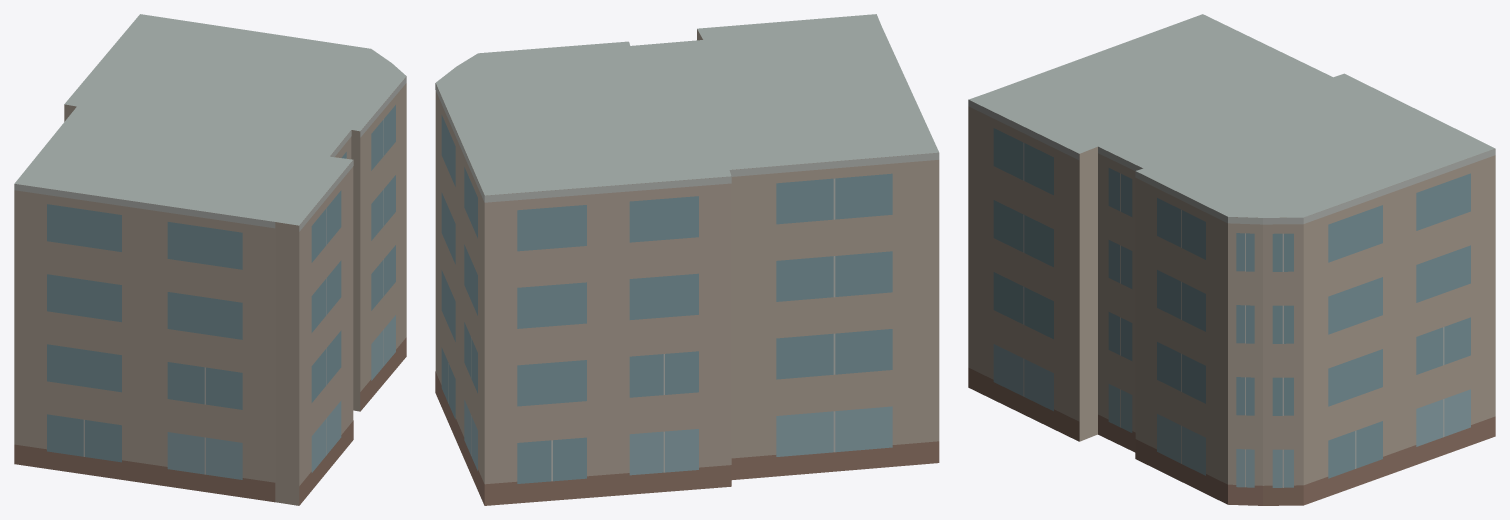
File: survey-upis-32658344.glb
3 renders of one model, left to right at view 1: azimuth 30°, elevation 25°; view 2: azimuth 150°, elevation 25°; view 3: azimuth 270°, elevation 25°, orthographic. The views are drawn at different scales.
Visible parts, largest first — view 1: survey-upis-32658344.tmp; view 2: survey-upis-32658344.tmp; view 3: survey-upis-32658344.tmp.
Boxes of the visible parts, box(x1,y1,x2,y2) form: survey-upis-32658344.tmp: box(14, 14, 406, 505); survey-upis-32658344.tmp: box(435, 14, 939, 505); survey-upis-32658344.tmp: box(968, 14, 1495, 505).
Size of the model in its own units: 16.11 by 10.6 by 17.6.
